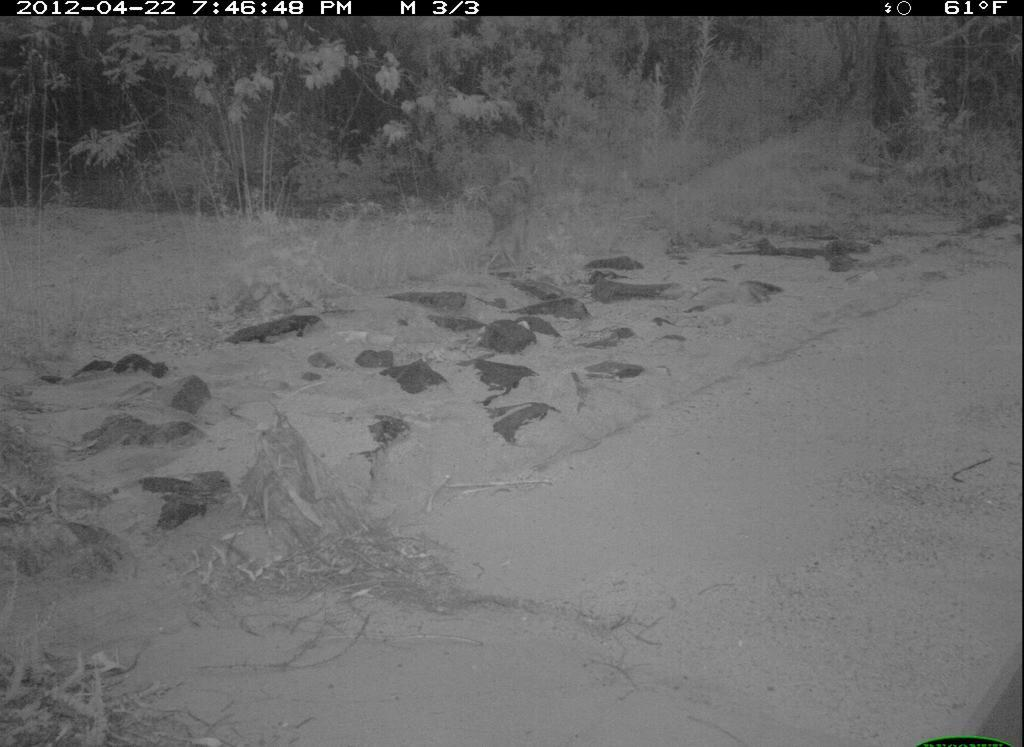coyote: (481, 157, 543, 264)
